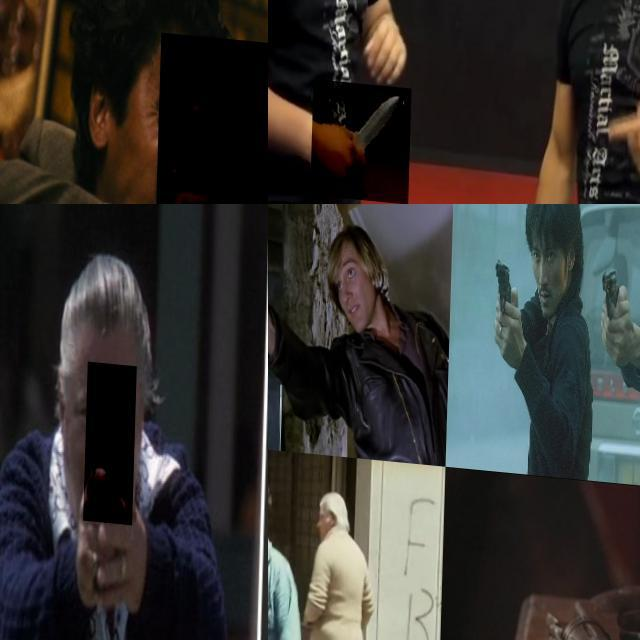-: (314, 76, 414, 200)
gun-knife-thesis - v11 Yolov5 augmented: (155, 28, 268, 204), (85, 359, 138, 521), (541, 558, 640, 640), (268, 205, 314, 330), (598, 248, 630, 354), (490, 244, 516, 352)
